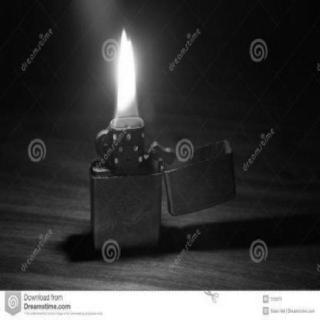Fire: (107, 24, 144, 137)
